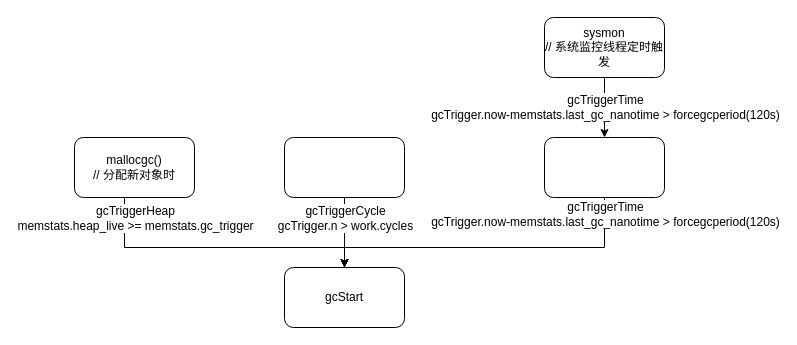
Some shapes in this 797 by 345 pixel diagram are drawn without their labels. Here are the shapes that lost their labels. From the top down, the centre of each, then its label:
the point at 344,167: GC() // 用户代码主动触发
the point at 604,167: forcegchelper()
